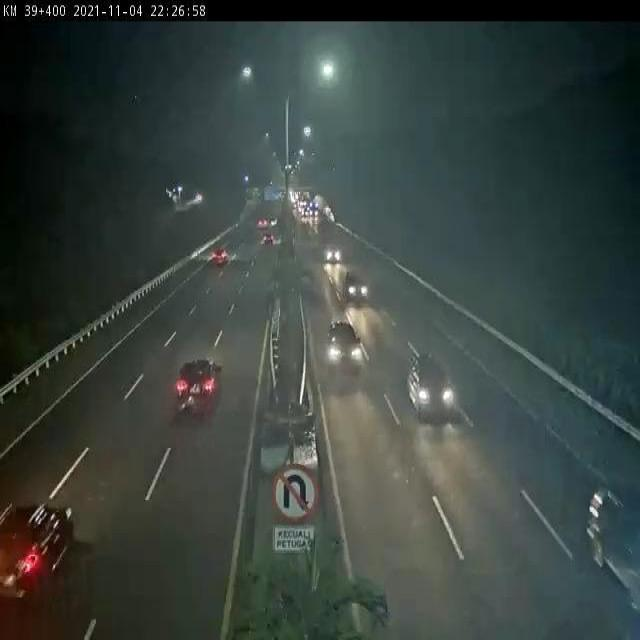car: (0, 496, 78, 609), (402, 348, 457, 420), (174, 354, 223, 414), (325, 320, 367, 373), (343, 268, 372, 304), (210, 244, 231, 267)
